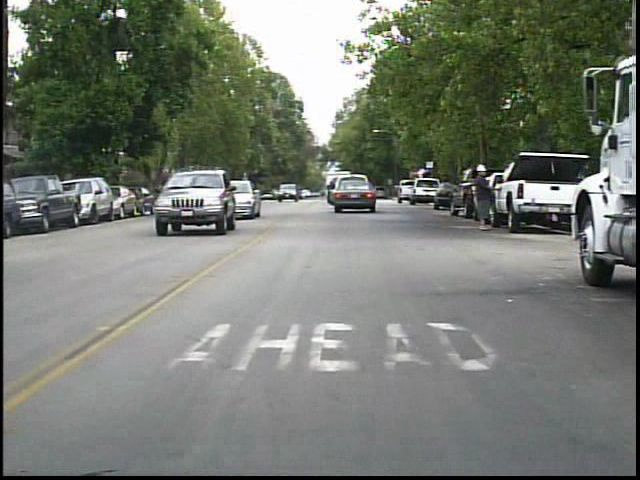person: (468, 161, 500, 235)
